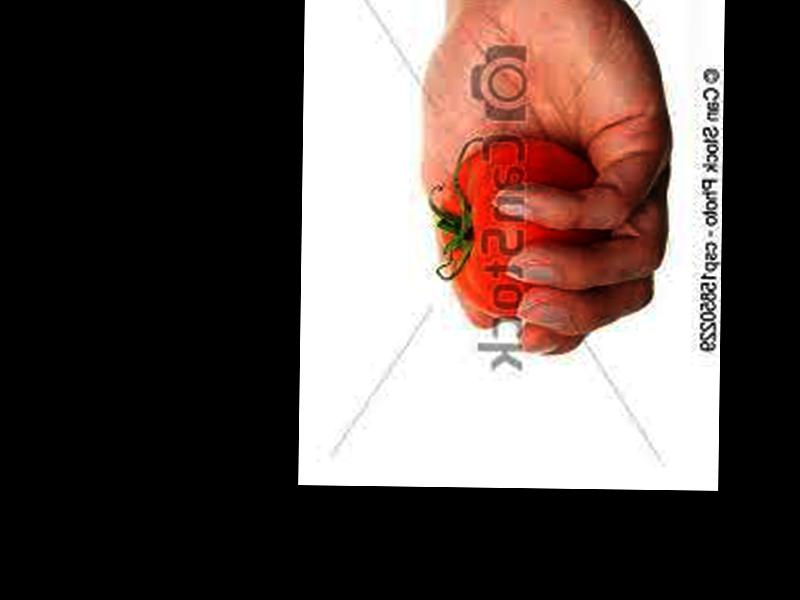Tomato: (440, 141, 605, 319)
